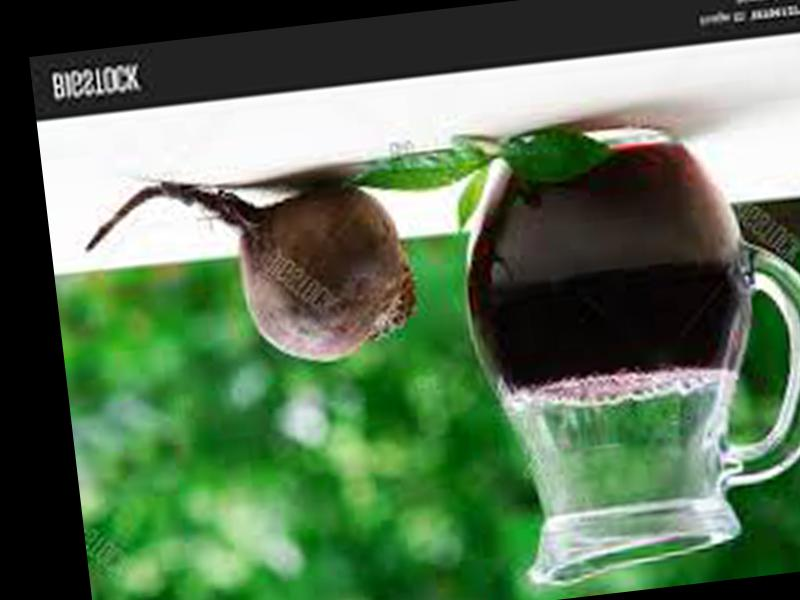Beet: (82, 154, 419, 384)
